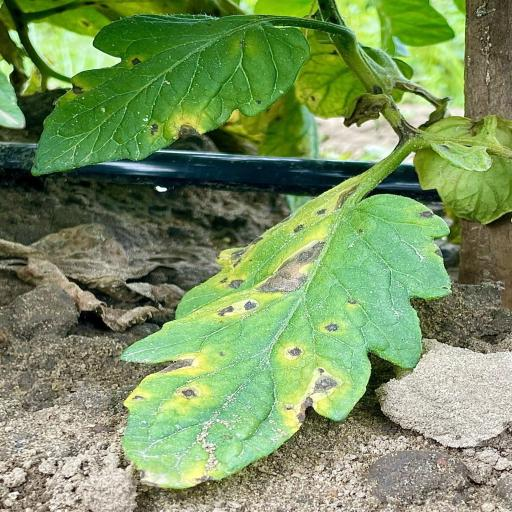disease_tomato: (114, 191, 458, 491), (30, 14, 308, 174)
